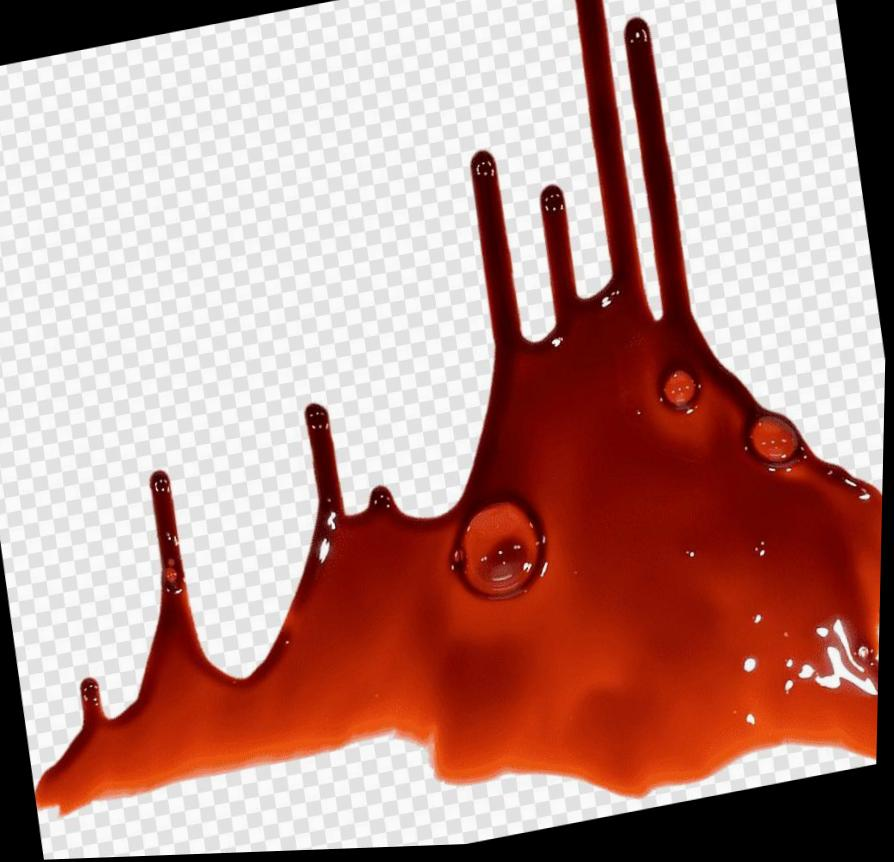Fire: (38, 0, 885, 818)
